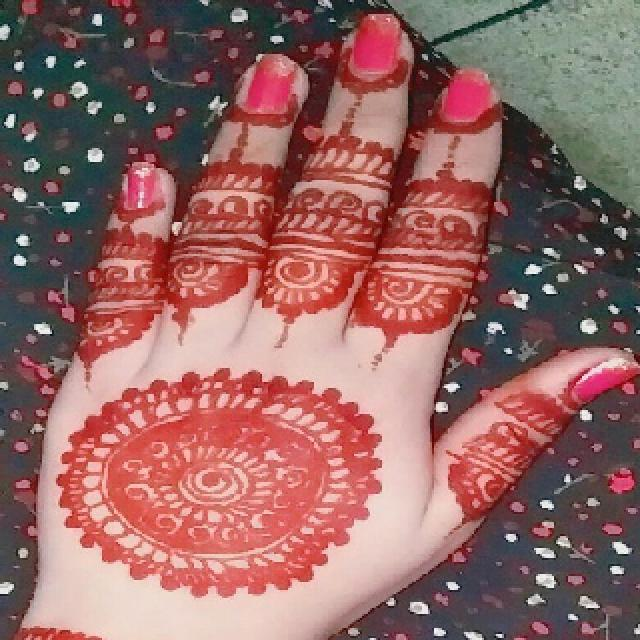Nail: (570, 356, 640, 406), (246, 54, 298, 115), (351, 14, 401, 76), (444, 69, 490, 121), (128, 162, 158, 210)
